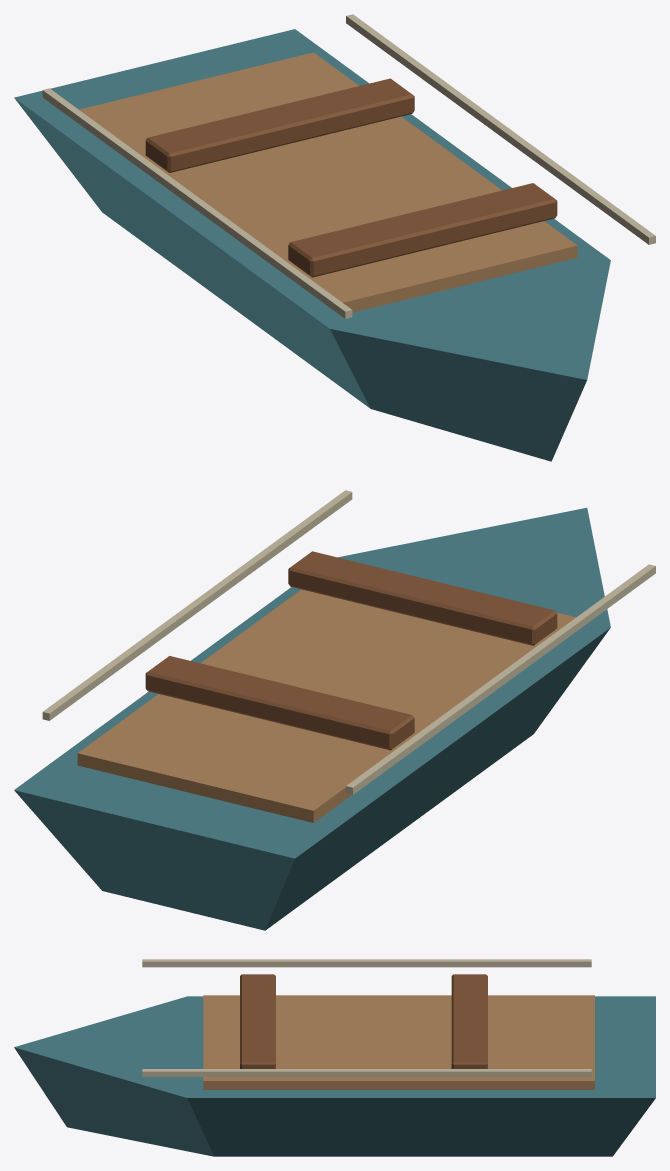
Rendered from vessel_skiff.glb.
The picture shows the model from 3 angles, top to bottom: view 1: azimuth 30°, elevation 25°; view 2: azimuth 150°, elevation 25°; view 3: azimuth 270°, elevation 25°; orthographic projection. The views are drawn at different scales.
Visible parts, largest first — view 1: vessel_skiff; view 2: vessel_skiff; view 3: vessel_skiff.
Boxes of the visible parts, x1,y1,x2,y2 form: vessel_skiff: (14,14,655,461); vessel_skiff: (14,490,655,930); vessel_skiff: (14,959,655,1156).
Size of the model in its own units: 1.99 by 0.9225 by 4.8.
